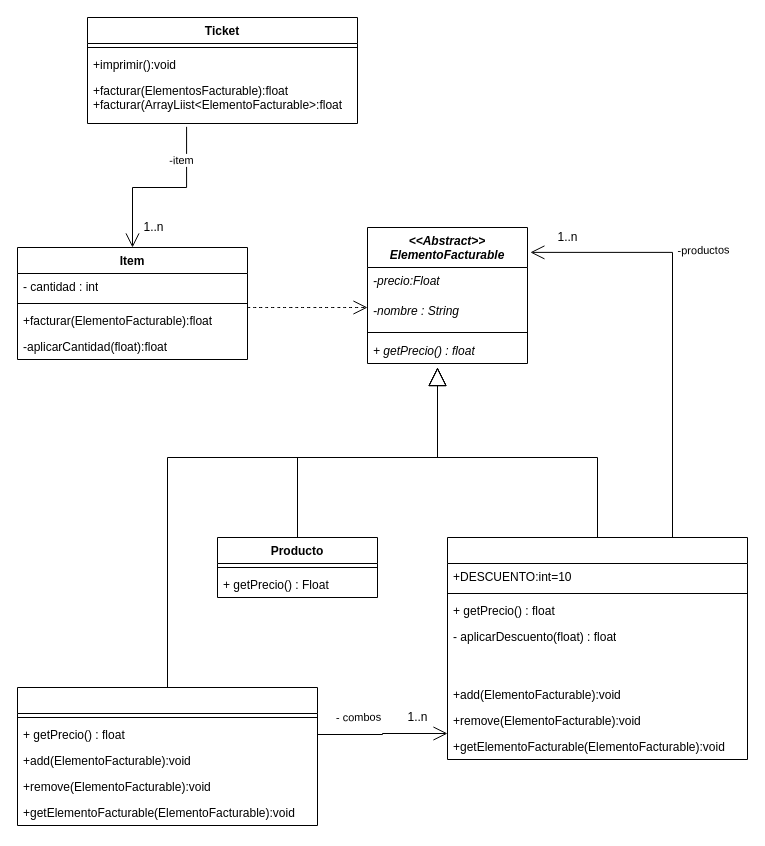
Image size: 765x846. Some labels were removed from this diagram. Each missing label, with the box of its shape:
Combo: (446, 536, 748, 760)
Super_McCombos: (16, 686, 318, 826)
